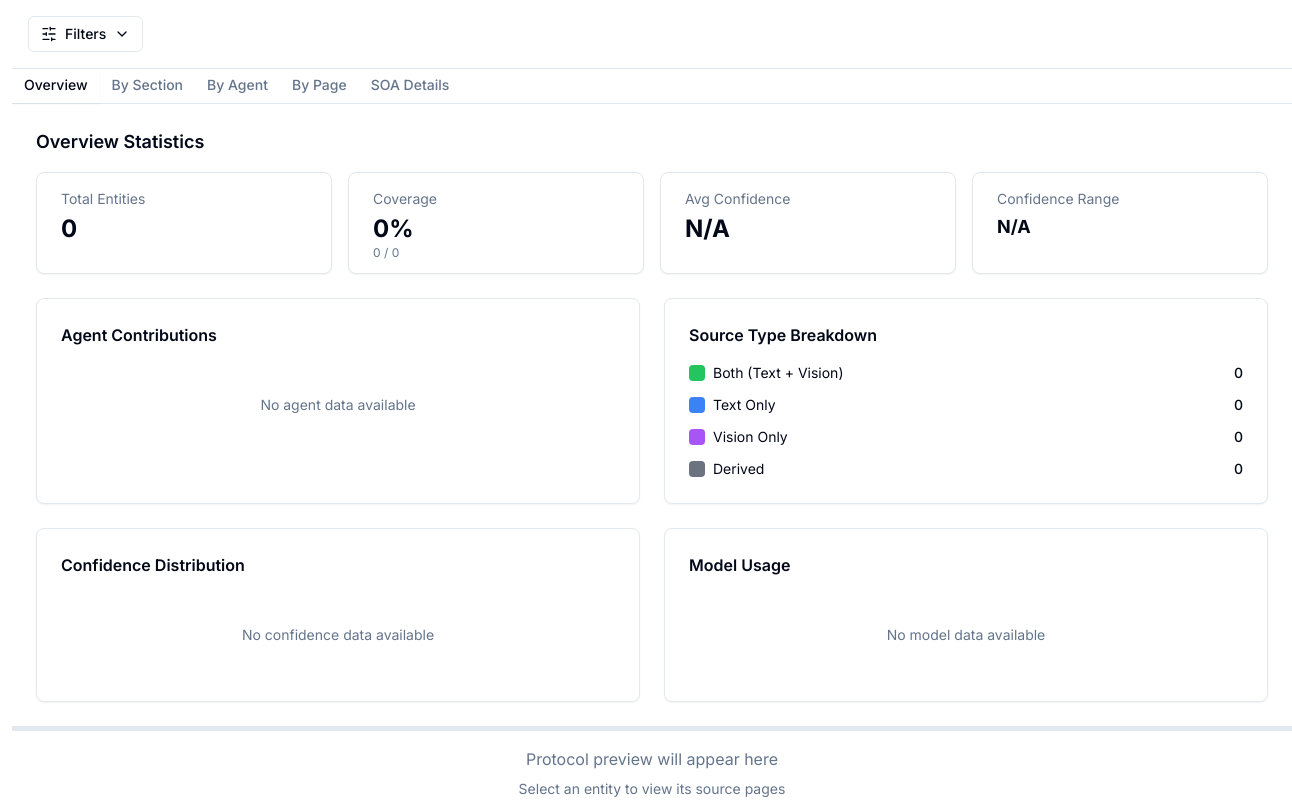
Scenario: ByAgentTab › should handle empty provenance data gracefully
// Switch to By Agent tab
What coordinates should you click on to do the following:
click the tab "By Agent"
I would click on:
 (237, 86)
Its box is [195,69,280,103].
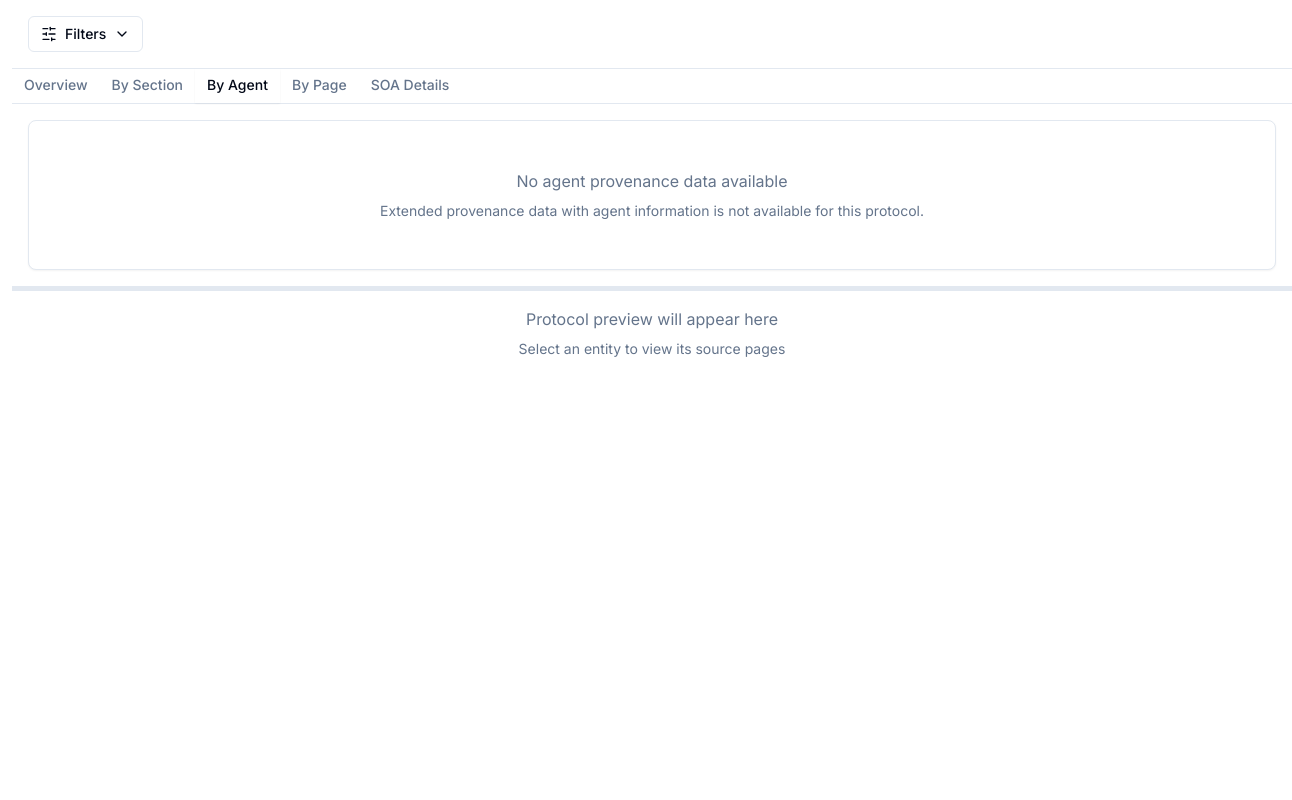
Expected: the text "No agent provenance data available" is shown, [516,171,788,191]
